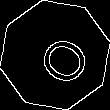O_NW: (22, 24, 88, 86)
